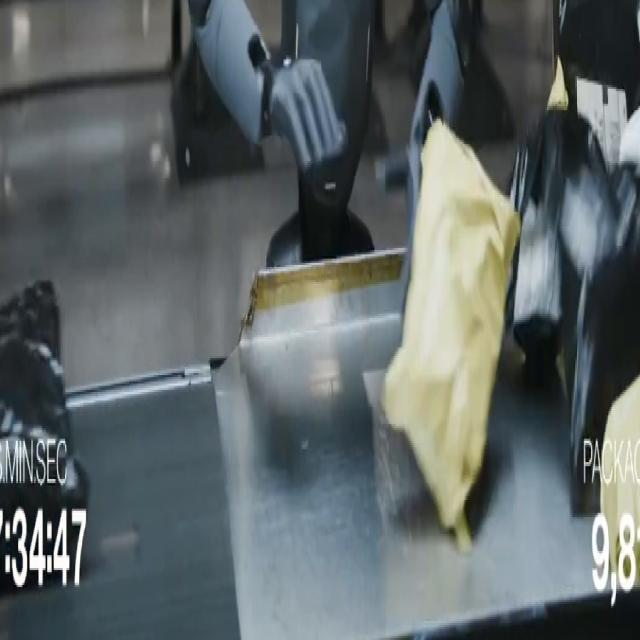package: (382, 121, 519, 548), (508, 111, 639, 512), (562, 168, 639, 512), (0, 282, 88, 550), (506, 119, 561, 385), (554, 0, 639, 167), (598, 378, 639, 587), (0, 280, 60, 362), (619, 109, 639, 171)
